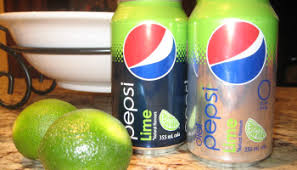can: (192, 2, 276, 161), (105, 1, 190, 158)
